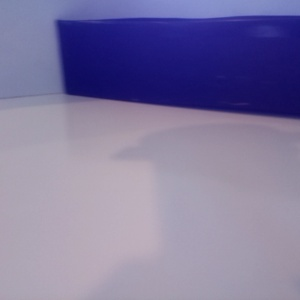zone: (1, 13, 87, 66)
